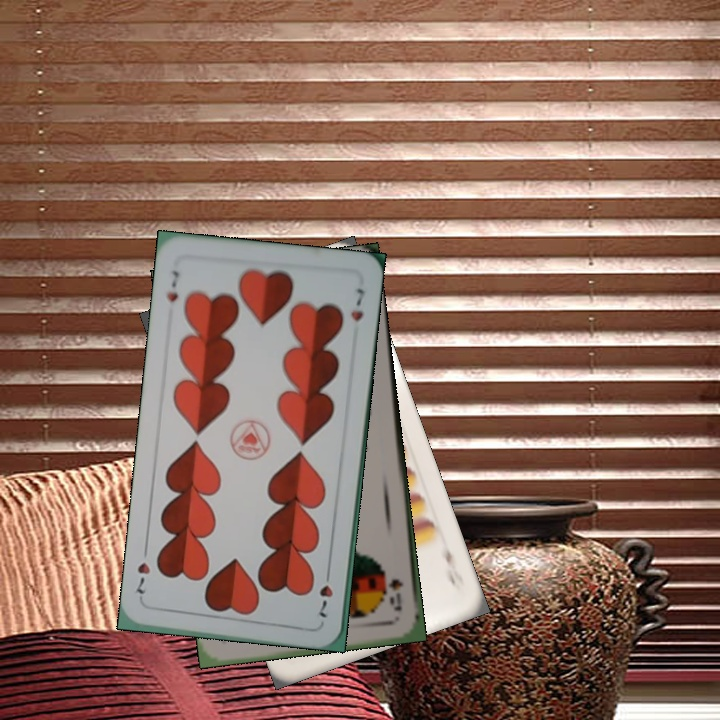E9: (441, 537, 467, 593)
H7: (315, 564, 336, 621), (161, 266, 182, 304)
SO: (385, 574, 406, 614)
